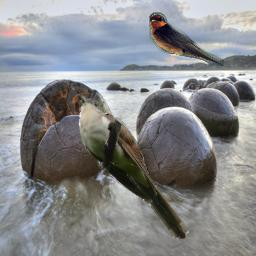Cuckoo: (77, 94, 189, 240)
Swallow: (149, 12, 224, 66)
